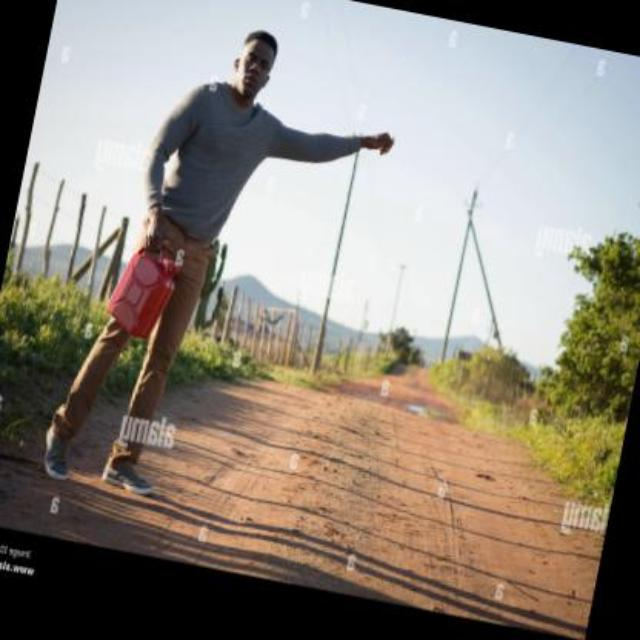chemical_plastic_gallon: (97, 231, 187, 347)
